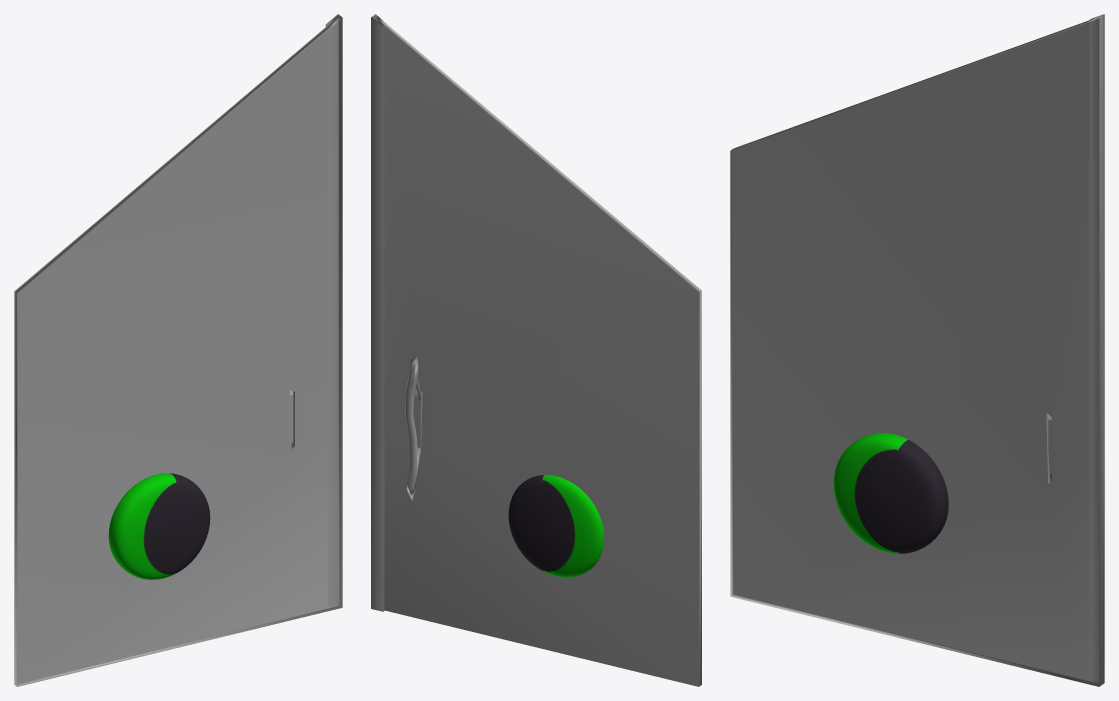
Rendered from GreenMoonUV.fbx.
The picture shows the model from 3 angles, left to right: view 1: azimuth 30°, elevation 25°; view 2: azimuth 150°, elevation 25°; view 3: azimuth 330°, elevation 25°; orthographic projection. The views are drawn at different scales.
Visible parts, largest first — view 1: DoubleDoors, Moon1; view 2: DoubleDoors, Moon1; view 3: DoubleDoors, Moon1.
Part boxes in pixels (left/top/right/bottom): DoubleDoors: left=14, top=14, right=342, bottom=686; Moon1: left=108, top=473, right=210, bottom=579; DoubleDoors: left=371, top=14, right=701, bottom=686; Moon1: left=508, top=475, right=604, bottom=577; DoubleDoors: left=730, top=14, right=1104, bottom=686; Moon1: left=833, top=433, right=948, bottom=553.
Bounding box in the file's own units: 3.98 × 6.89 × 0.4404.
